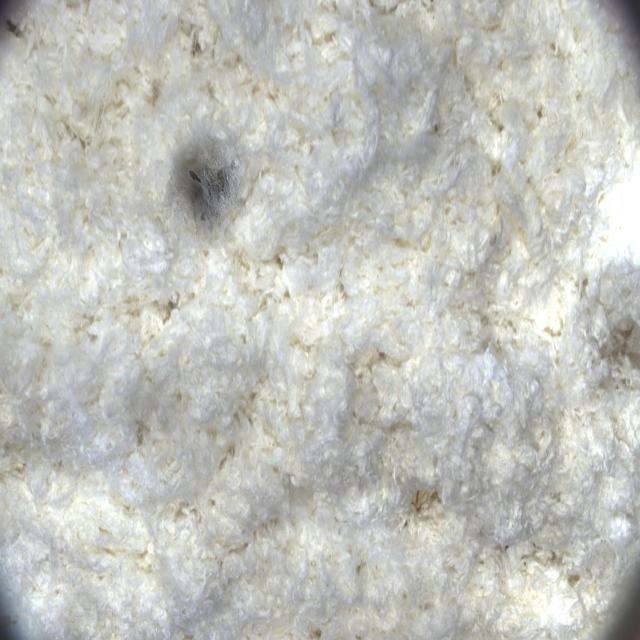dust: (122, 106, 271, 254)
